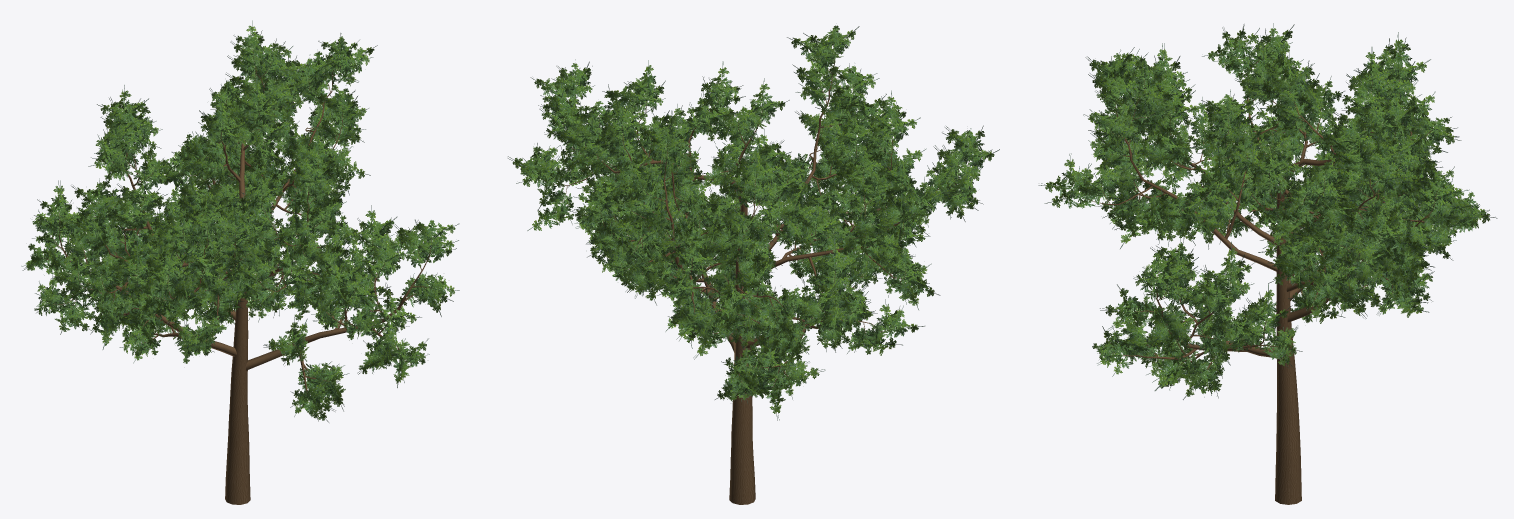
The model's file is canopy-v2.glb.
The picture shows the model from 3 angles, left to right: view 1: azimuth 30°, elevation 25°; view 2: azimuth 150°, elevation 25°; view 3: azimuth 270°, elevation 25°; orthographic projection. The views are drawn at different scales.
Parts seen in each view (by area): view 1: leaves, branches; view 2: leaves, branches; view 3: leaves, branches.
Part boxes in pixels (left/top/right/bottom): leaves: left=21, top=20, right=459, bottom=422; branches: left=46, top=49, right=431, bottom=504; leaves: left=508, top=25, right=999, bottom=420; branches: left=540, top=43, right=969, bottom=504; leaves: left=1038, top=23, right=1497, bottom=399; branches: left=1078, top=58, right=1450, bottom=504.
Size of the model in its own units: 6.73 by 7.5 by 6.59.
2 materials, 2 textured.
